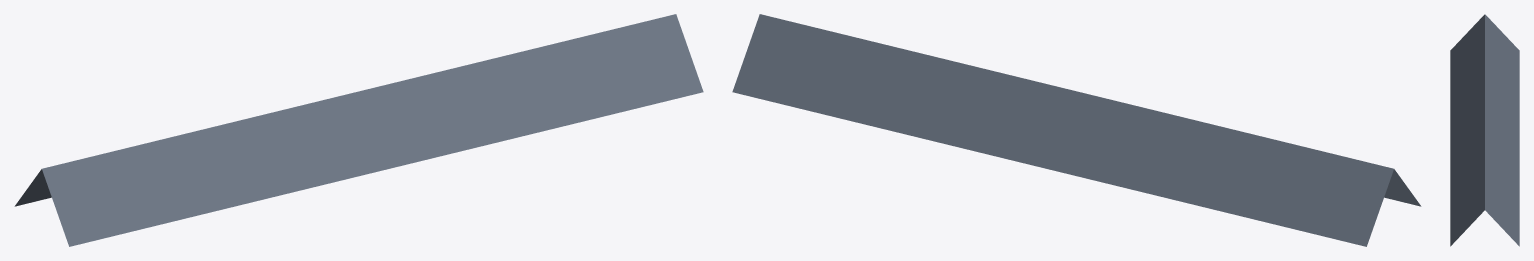
File: haunted_roof_ridge.glb
The picture shows the model from 3 angles, left to right: view 1: azimuth 30°, elevation 25°; view 2: azimuth 150°, elevation 25°; view 3: azimuth 270°, elevation 25°; orthographic projection. The views are drawn at different scales.
Parts seen in each view (by area): view 1: Haunted_Roof_Ridge; view 2: Haunted_Roof_Ridge; view 3: Haunted_Roof_Ridge.
Part boxes in pixels (x1=…): Haunted_Roof_Ridge: x1=14, y1=14, x2=703, y2=246; Haunted_Roof_Ridge: x1=732, y1=14, x2=1421, y2=246; Haunted_Roof_Ridge: x1=1450, y1=14, x2=1519, y2=246.
Bounding box in the file's own units: 4 × 0.35 × 0.6.
